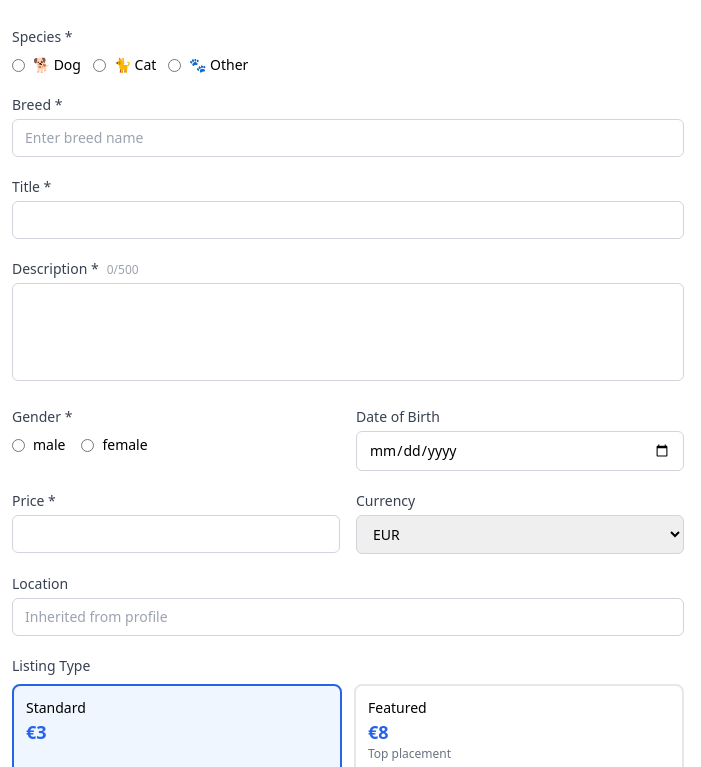
Test: CreateListingForm › Step 2 shows photo upload zone and min 3 enforced
Click the radio button labelled "🐕 dog". click: (18, 65)
box: [12,58,25,72]
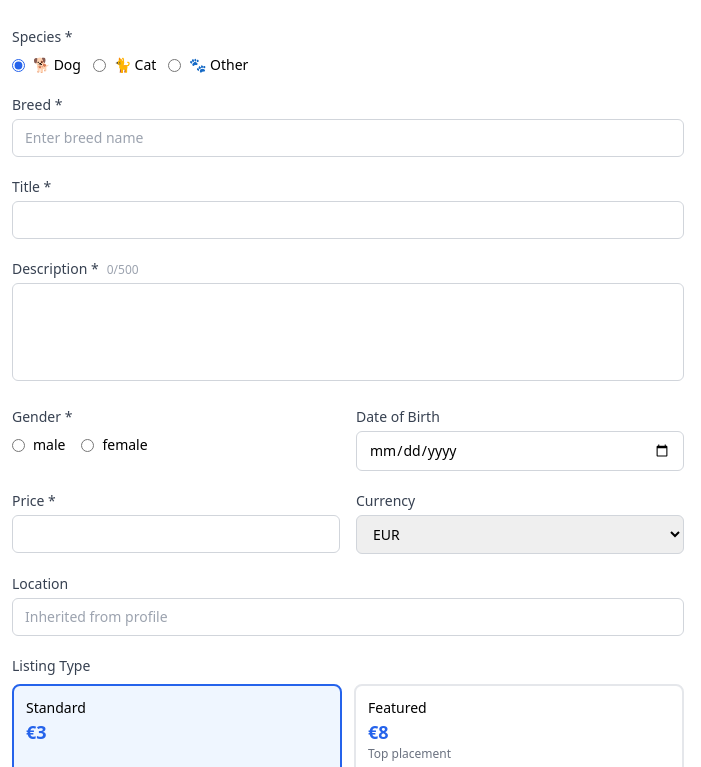
Click the radio button labelled "male". click: (18, 445)
box: [12,438,25,452]
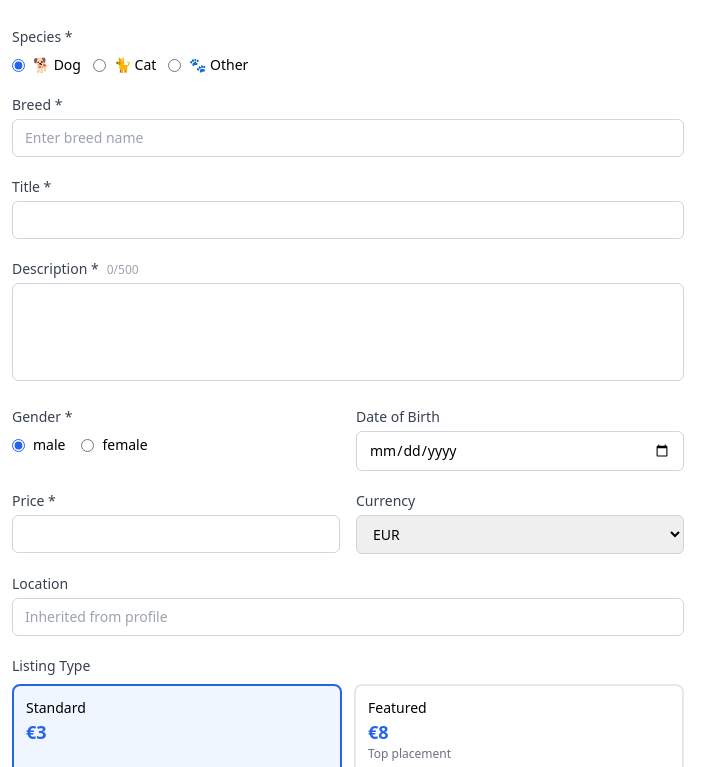
Type "Lovely Puppy" into the field named "title". click: (348, 220)
box: [12,201,684,239]
Type "Great puppy for a family." into the text box named "description". click: (348, 332)
box: [12,283,684,381]
Type "500" into the number field named "price". click: (176, 534)
box: [12,515,340,553]
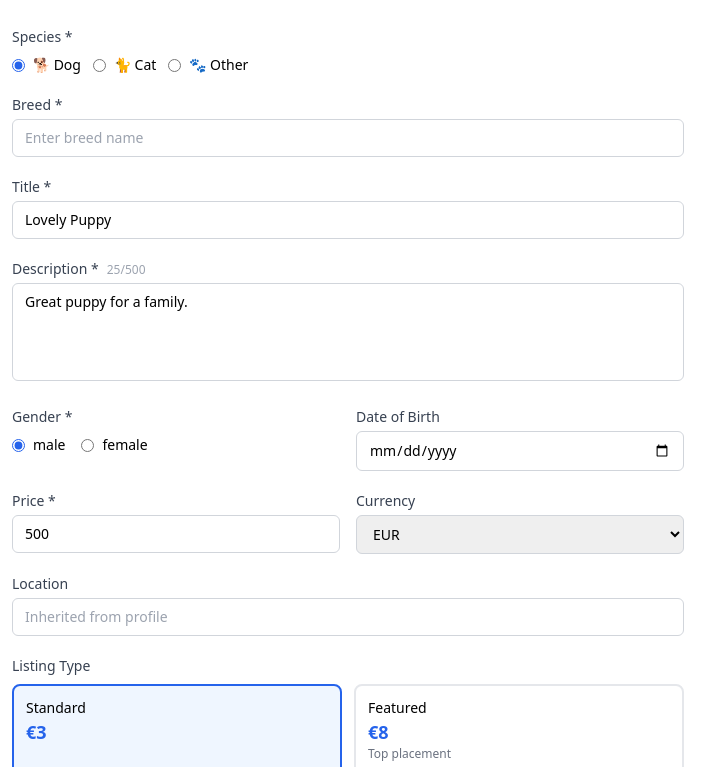
Type "Golden Retriever" into the field named "breed". click: (348, 138)
box: [12,119,684,157]
(page scrolled)
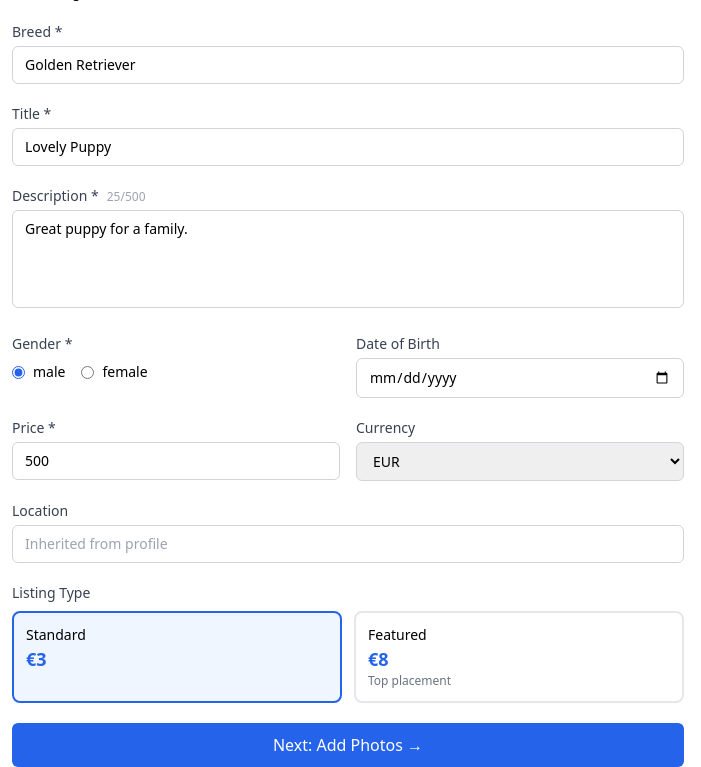
Click the button "Next: Add Photos →". click: (348, 745)
box: [12,723,684,766]
(page scrolled)
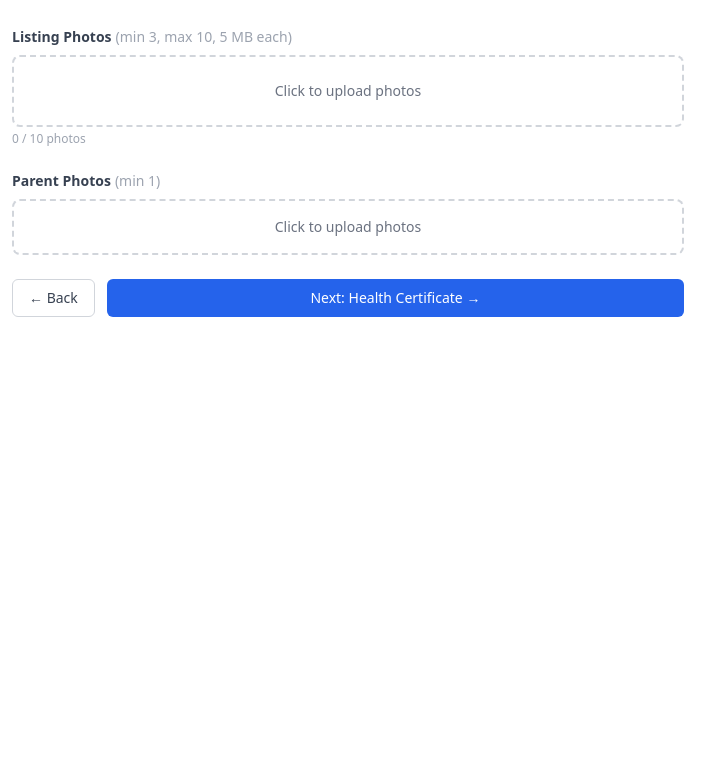
Now the heading "Listing Photos(min 3, max 10, 5 MB each)" is shown, box [12,27,292,46]
Click the button "Next: Health Certificate →". click: (395, 298)
box: [107,279,684,317]
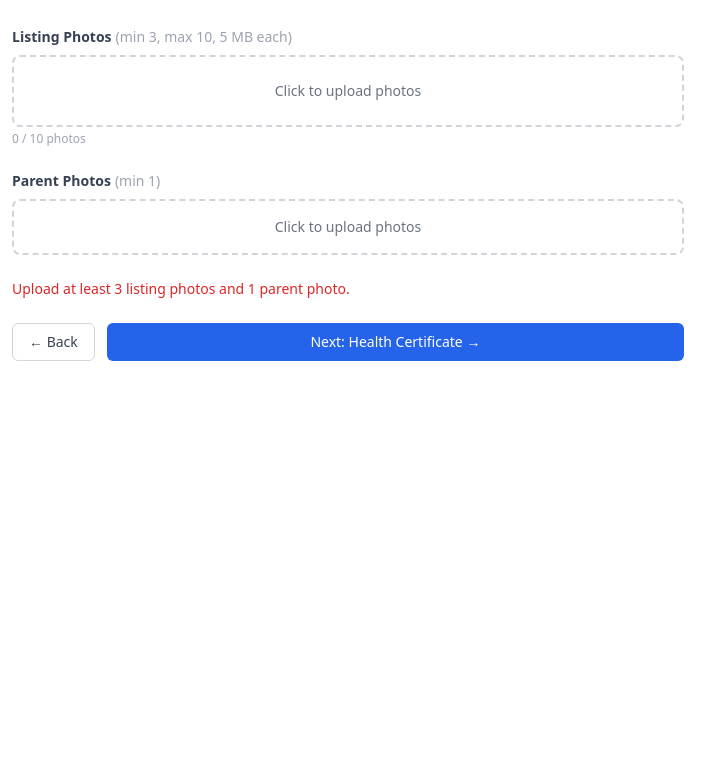
Now the text "Upload at least 3 listing photos and 1 parent photo." is shown, box [12,279,350,298]
